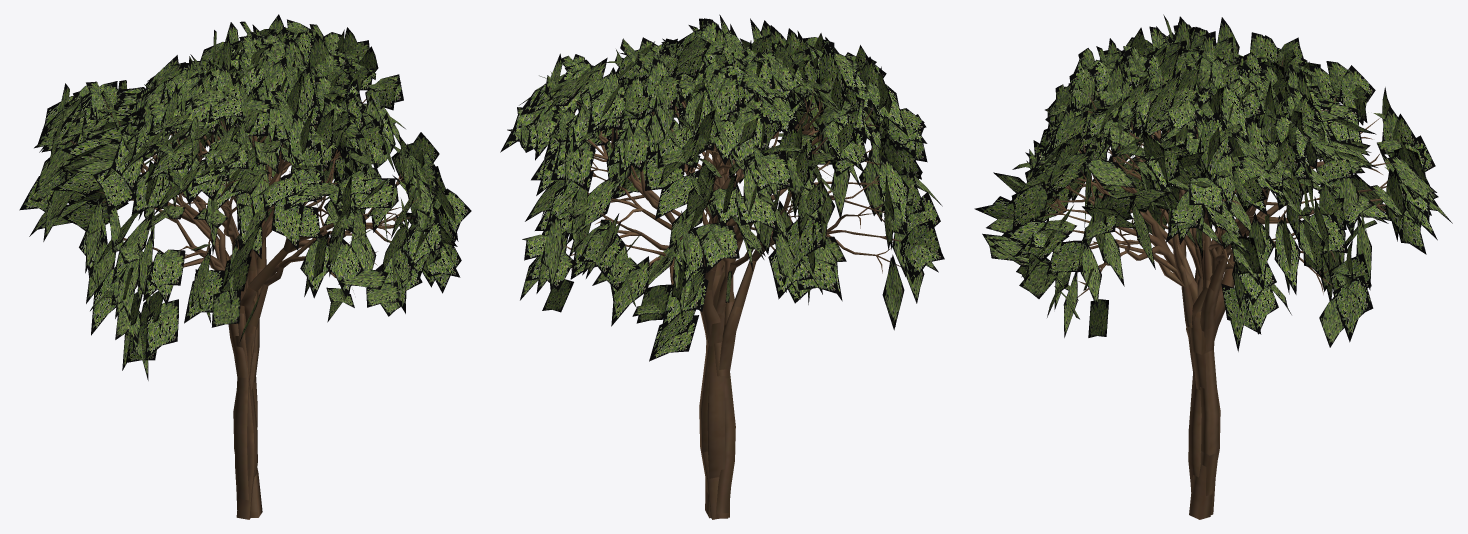
Rendered from parampara-tree-4.glb.
3 renders of one model, left to right at view 1: azimuth 30°, elevation 25°; view 2: azimuth 150°, elevation 25°; view 3: azimuth 270°, elevation 25°, orthographic. The views are drawn at different scales.
Visible parts, largest first — view 1: tree; view 2: tree; view 3: tree.
Part boxes in pixels (x1=…): tree: x1=19, y1=14, x2=471, y2=519; tree: x1=500, y1=14, x2=944, y2=519; tree: x1=974, y1=14, x2=1452, y2=519.
Bounding box in the file's own units: 19.21 × 24.69 × 22.66.
1 material, 1 textured.
